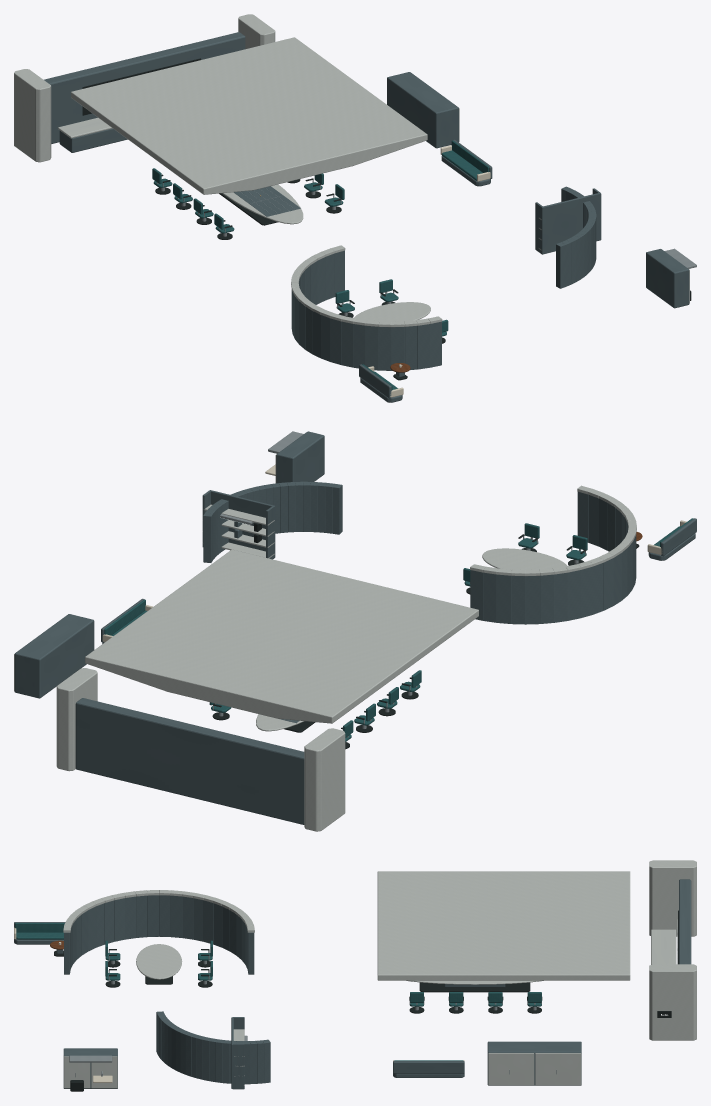
Rendered from D18_directory_06.glb.
3 renders of one model, top to bottom at view 1: azimuth 30°, elevation 25°; view 2: azimuth 150°, elevation 25°; view 3: azimuth 270°, elevation 25°, orthographic. The views are drawn at different scales.
Parts seen in each view (by area): view 1: A_DirectedCoffer, A_BriefingFocusCarcass, A_GroupMaterials_carcass, A_FocusPortCheek, A_HandoverRecords_back, A_BriefingCare_carcass, A_BreakoutTable_top, A_BriefingTablePlot_field, A_BriefingCredenza, A_FocusInboardCheek, A_SharedBriefing_top, A_BriefingCredenzaCap (+1 smaller); view 2: A_DirectedCoffer, A_BriefingFocusCarcass, A_GroupMaterials_carcass, A_FocusPortCheek, A_FocusInboardCheek, A_BriefingCare_carcass, A_BreakoutTable_top, A_HandoverRecords_back, A_BreakoutWall_19, A_BreakoutWall_18, A_BreakoutWall_20, A_BreakoutWall_21 (+3 smaller); view 3: A_DirectedCoffer, A_FocusInboardCheek, A_FocusPortCheek, A_GroupMaterials_door0, A_GroupMaterials_door1, A_GroupMaterials_carcass, A_BreakoutTable_top, A_BriefingFocusCarcass, A_GroupPause_backframe, A_BriefingCredenzaCap, A_SharedBriefing_shoe, A_BriefingCare_door1 (+18 smaller).
Part boxes in pixels (x1=…): A_DirectedCoffer: x1=71, y1=37, x2=427, y2=194; A_BriefingFocusCarcass: x1=44, y1=32, x2=245, y2=143; A_GroupMaterials_carcass: x1=387, y1=72, x2=458, y2=148; A_FocusPortCheek: x1=14, y1=69, x2=51, y2=162; A_HandoverRecords_back: x1=541, y1=192, x2=601, y2=254; A_BriefingCare_carcass: x1=646, y1=249, x2=689, y2=308; A_BreakoutTable_top: x1=354, y1=302, x2=430, y2=321; A_BriefingTablePlot_field: x1=234, y1=186, x2=300, y2=216; A_BriefingCredenza: x1=59, y1=128, x2=127, y2=152; A_FocusInboardCheek: x1=238, y1=14, x2=275, y2=49; A_SharedBriefing_top: x1=223, y1=184, x2=303, y2=224; A_BriefingCredenzaCap: x1=58, y1=117, x2=112, y2=138; A_DirectedCoffer: x1=85, y1=549, x2=478, y2=723; A_BriefingFocusCarcass: x1=75, y1=698, x2=304, y2=824; A_GroupMaterials_carcass: x1=14, y1=614, x2=94, y2=698; A_FocusPortCheek: x1=304, y1=728, x2=345, y2=831; A_FocusInboardCheek: x1=56, y1=668, x2=97, y2=771; A_BriefingCare_carcass: x1=276, y1=431, x2=324, y2=483; A_BreakoutTable_top: x1=482, y1=548, x2=567, y2=569; A_HandoverRecords_back: x1=210, y1=490, x2=275, y2=557; A_BreakoutWall_19: x1=525, y1=576, x2=539, y2=624; A_BreakoutWall_18: x1=540, y1=574, x2=554, y2=623; A_BreakoutWall_20: x1=511, y1=576, x2=525, y2=624; A_BreakoutWall_21: x1=497, y1=574, x2=511, y2=623; A_DirectedCoffer: x1=377, y1=871, x2=630, y2=980; A_FocusInboardCheek: x1=649, y1=964, x2=696, y2=1040; A_FocusPortCheek: x1=649, y1=860, x2=696, y2=936; A_GroupMaterials_door0: x1=535, y1=1053, x2=581, y2=1085; A_GroupMaterials_door1: x1=488, y1=1053, x2=534, y2=1085; A_GroupMaterials_carcass: x1=487, y1=1041, x2=581, y2=1085; A_BreakoutTable_top: x1=136, y1=944, x2=182, y2=979; A_BriefingFocusCarcass: x1=679, y1=879, x2=691, y2=964; A_GroupPause_backframe: x1=393, y1=1061, x2=464, y2=1073; A_BriefingCredenzaCap: x1=651, y1=929, x2=676, y2=964; A_SharedBriefing_shoe: x1=419, y1=982, x2=530, y2=992; A_BriefingCare_door1: x1=64, y1=1056, x2=90, y2=1088.
Size of the model in its own units: 22.93 by 4.5 by 40.
Materials: 9 (9 with a texture image).
